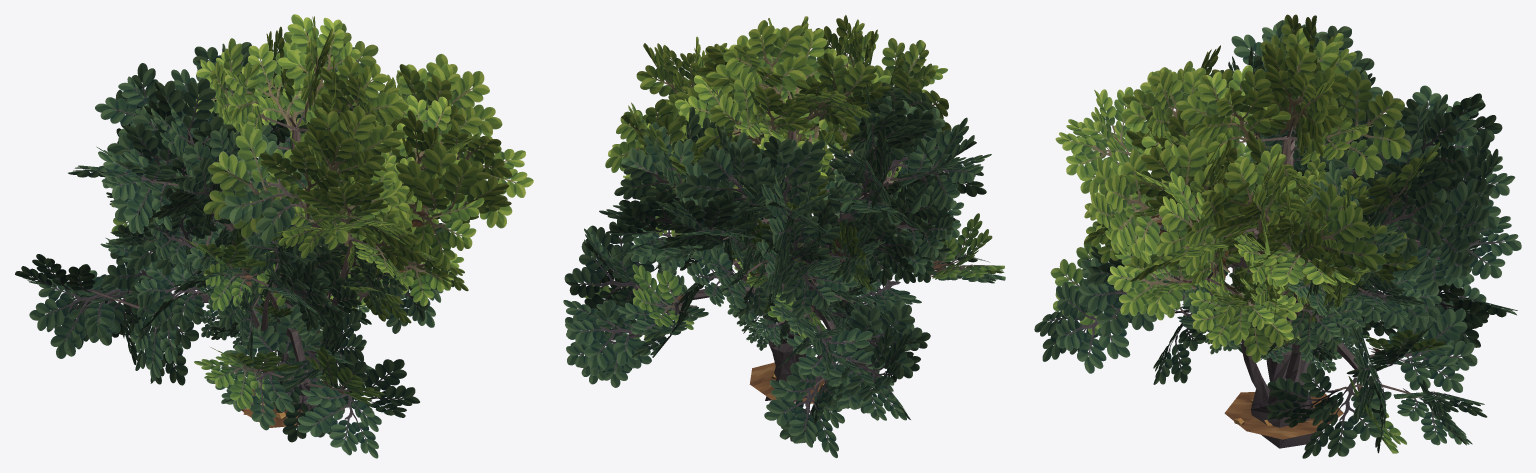
The model's file is alfarrobeiras.glb.
3 renders of one model, left to right at view 1: azimuth 30°, elevation 25°; view 2: azimuth 150°, elevation 25°; view 3: azimuth 270°, elevation 25°, orthographic. The views are drawn at different scales.
Parts seen in each view (by area): view 1: Alfarrobeira4_Velha, Alfarrobeira3_Multicaule, Alfarrobeira2_Pomar, Alfarrobeira1_Jovem; view 2: Alfarrobeira4_Velha, Alfarrobeira3_Multicaule, Alfarrobeira2_Pomar, Alfarrobeira1_Jovem; view 3: Alfarrobeira4_Velha, Alfarrobeira3_Multicaule, Alfarrobeira2_Pomar, Alfarrobeira1_Jovem.
Part boxes in pixels (x1,y1,x2,y2): Alfarrobeira4_Velha: (15, 14, 533, 458); Alfarrobeira3_Multicaule: (106, 108, 468, 414); Alfarrobeira2_Pomar: (134, 156, 438, 365); Alfarrobeira1_Jovem: (200, 291, 369, 365); Alfarrobeira4_Velha: (563, 15, 1005, 458); Alfarrobeira3_Multicaule: (623, 102, 963, 386); Alfarrobeira2_Pomar: (676, 134, 950, 379); Alfarrobeira1_Jovem: (727, 258, 854, 351); Alfarrobeira4_Velha: (1034, 14, 1521, 458); Alfarrobeira3_Multicaule: (1084, 110, 1480, 422); Alfarrobeira2_Pomar: (1127, 158, 1441, 425); Alfarrobeira1_Jovem: (1192, 290, 1366, 372).
Size of the model in its own units: 9.72 by 9.12 by 9.97.
2 materials, 2 textured.
